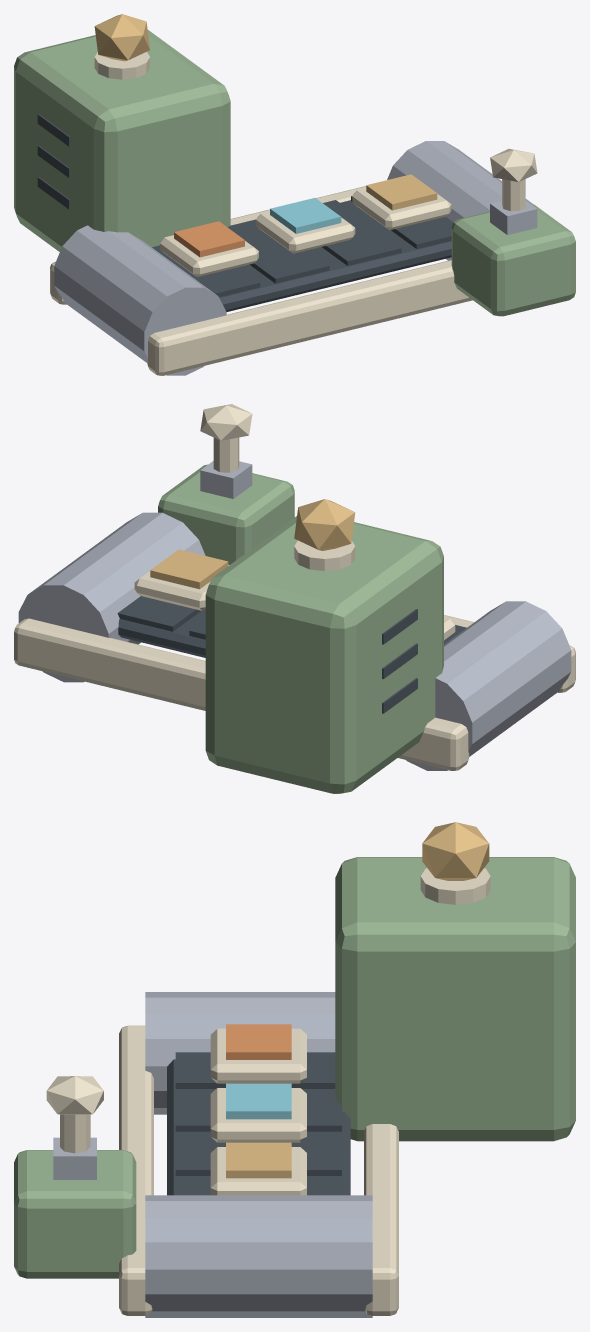
The model's file is listing-pipeline.glb.
The picture shows the model from 3 angles, top to bottom: view 1: azimuth 30°, elevation 25°; view 2: azimuth 150°, elevation 25°; view 3: azimuth 270°, elevation 25°; orthographic projection. The views are drawn at different scales.
Parts seen in each view (by area): view 1: Housing, RailR, RollerA, Control, Belt, RollerB, BeltSeg1, BeltSeg2, LampDome, FrameRim2, FrameRim1, FrameRim0 (+10 smaller); view 2: Housing, RollerA, RailL, RollerB, Control, LampDome, Belt, FrameSlot2, BeltSeg3, FrameRim2, Knob, StickBase (+2 smaller); view 3: Housing, RollerB, Control, RollerA, RailR, RailL, FrameRim0, LampDome, FrameRim1, BeltSeg2, Belt, BeltSeg1 (+10 smaller).
Boxes of the visible parts, bbox=[...] form: Housing: bbox=[14, 30, 230, 251]; RailR: bbox=[147, 260, 472, 375]; RollerA: bbox=[54, 225, 226, 375]; Control: bbox=[451, 203, 575, 316]; Belt: bbox=[219, 200, 451, 311]; RollerB: bbox=[387, 141, 532, 260]; BeltSeg1: bbox=[228, 219, 329, 283]; BeltSeg2: bbox=[322, 200, 401, 265]; LampDome: bbox=[94, 14, 149, 61]; FrameRim2: bbox=[352, 188, 451, 229]; FrameRim1: bbox=[256, 211, 355, 253]; FrameRim0: bbox=[160, 235, 258, 276]; Housing: bbox=[205, 516, 443, 793]; RollerA: bbox=[406, 601, 571, 770]; RailL: bbox=[14, 618, 469, 770]; RollerB: bbox=[18, 512, 205, 682]; Control: bbox=[158, 464, 294, 564]; LampDome: bbox=[294, 499, 355, 550]; Belt: bbox=[118, 609, 205, 657]; FrameSlot2: bbox=[150, 549, 228, 589]; BeltSeg3: bbox=[117, 596, 201, 631]; FrameRim2: bbox=[134, 564, 229, 610]; Knob: bbox=[200, 404, 252, 440]; StickBase: bbox=[200, 461, 252, 498]; Housing: bbox=[335, 857, 575, 1141]; RollerB: bbox=[145, 1195, 372, 1317]; Control: bbox=[14, 1150, 136, 1278]; RollerA: bbox=[145, 992, 335, 1114]; RailR: bbox=[119, 1025, 153, 1315]; RailL: bbox=[364, 1124, 398, 1315]; FrameRim0: bbox=[210, 1028, 306, 1083]; LampDome: bbox=[422, 822, 489, 880]; FrameRim1: bbox=[210, 1088, 306, 1142]; BeltSeg2: bbox=[175, 1136, 341, 1175]; Belt: bbox=[167, 1059, 350, 1195]; BeltSeg1: bbox=[175, 1092, 341, 1131].
Size of the model in its own units: 1.37 by 0.8165 by 1.29.
